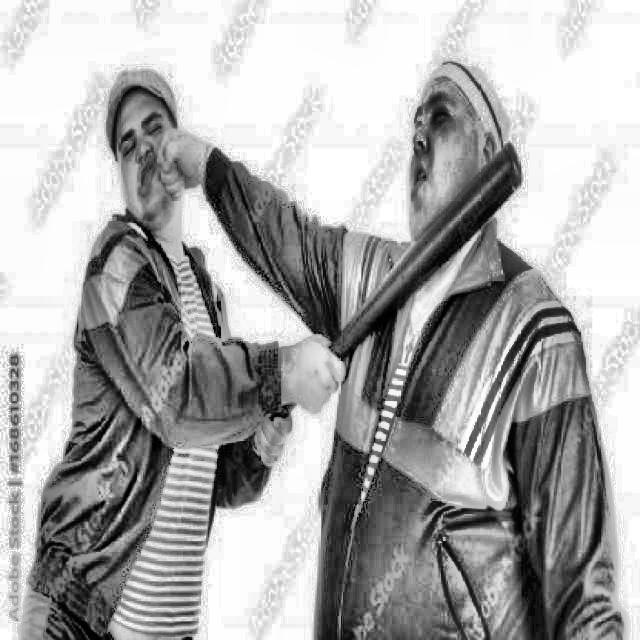robbery: (9, 47, 630, 639)
tongkat pemukul: (227, 140, 535, 480)
